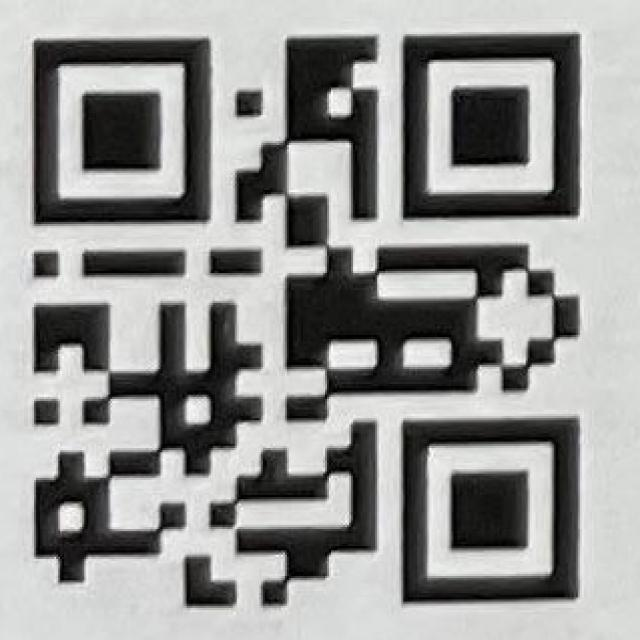QR_CODE: (29, 32, 580, 608)
